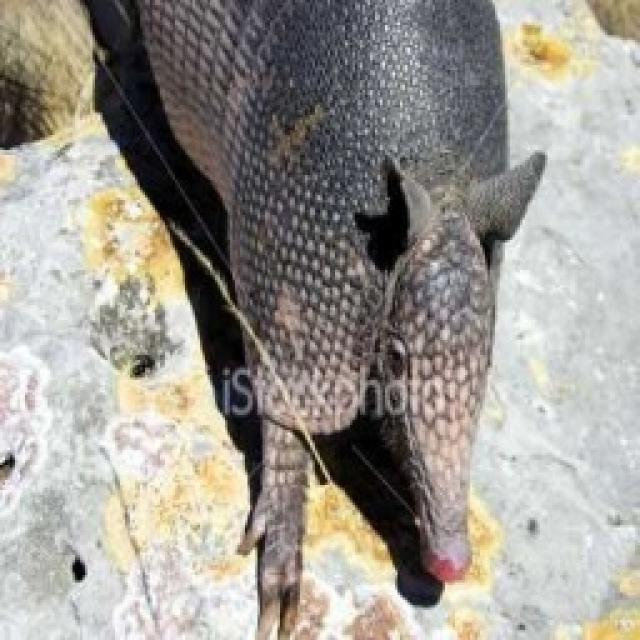pig: (135, 0, 548, 640)
